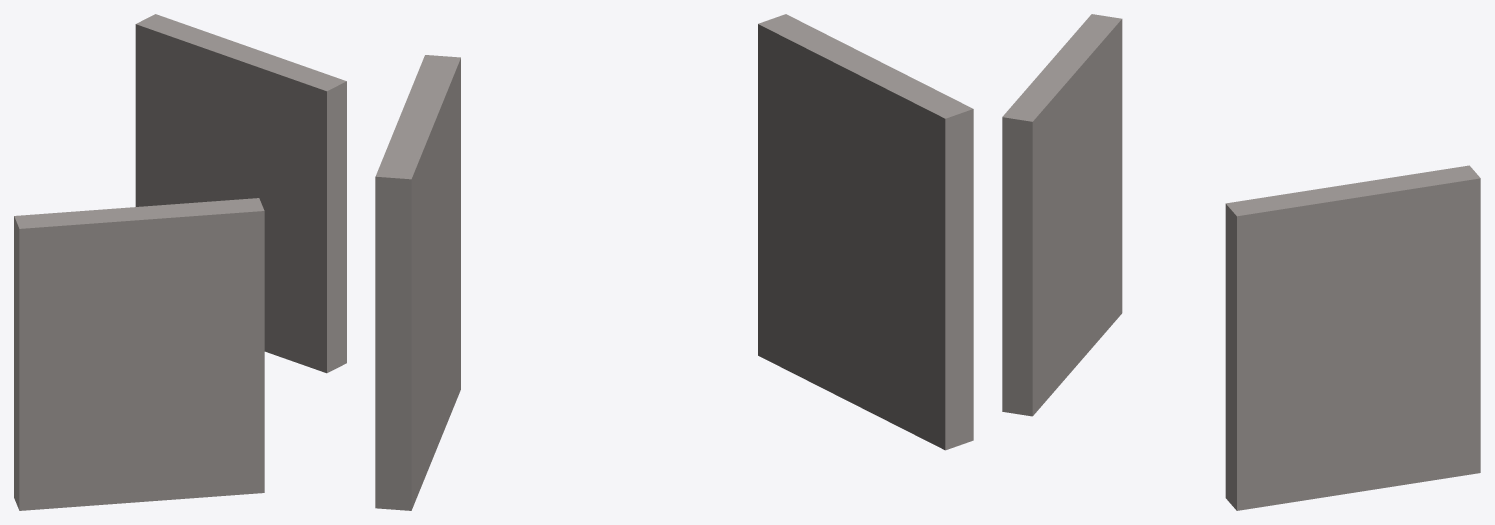
Rendered from bridge-pillars-curve.glb.
3 views of the same model, side by side, from view 1: azimuth 30°, elevation 25°; view 2: azimuth 150°, elevation 25°; view 3: azimuth 270°, elevation 25° (orthographic). The views are drawn at different scales.
Visible parts, largest first — view 1: bridge-pillars-curve; view 2: bridge-pillars-curve; view 3: bridge-pillars-curve.
Part boxes in pixels (x1,y1,x2,y2): bridge-pillars-curve: (14,14,346,510); bridge-pillars-curve: (375,14,973,510); bridge-pillars-curve: (1002,14,1480,510).
Bounding box in the file's own units: 14.73 × 10 × 14.72.
1 material, 1 textured.
